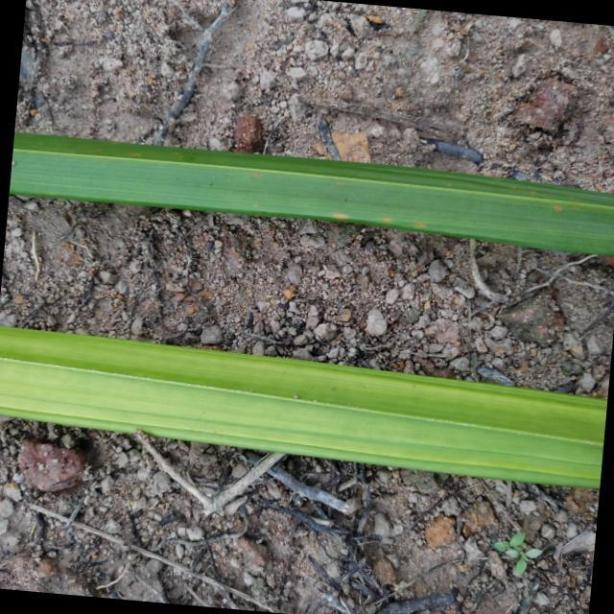nitrogen: (0, 321, 603, 496), (12, 125, 614, 264)
